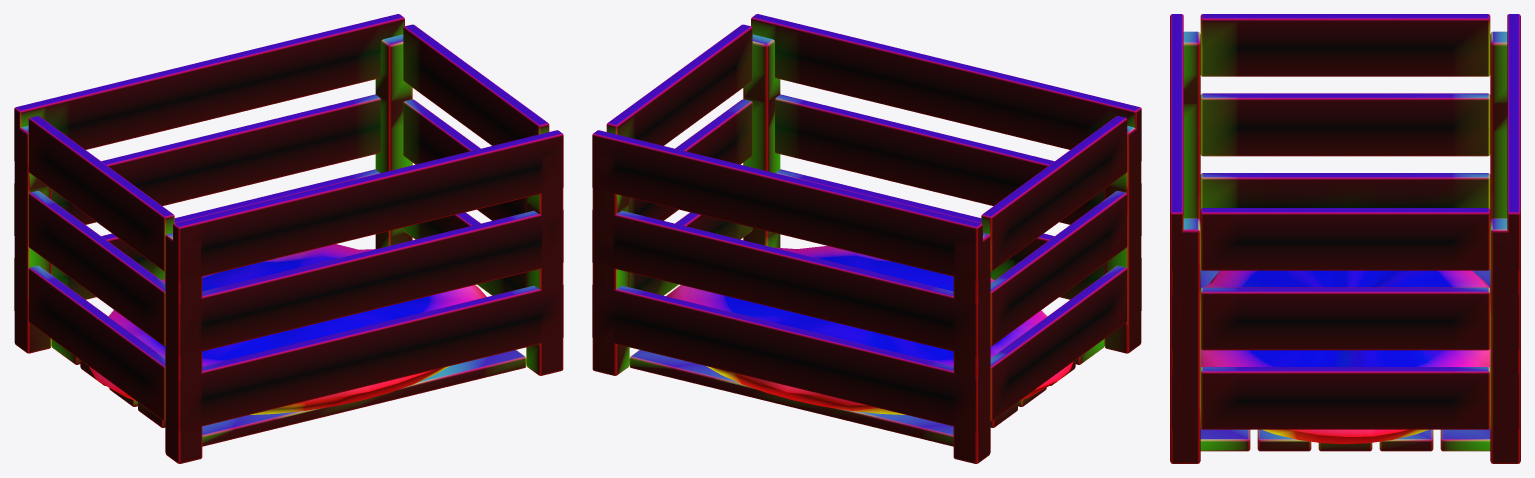
File: prop_crate_body.fbx
The picture shows the model from 3 angles, left to right: view 1: azimuth 30°, elevation 25°; view 2: azimuth 150°, elevation 25°; view 3: azimuth 270°, elevation 25°; orthographic projection. The views are drawn at different scales.
Visible parts, largest first — view 1: prop_crate_body; view 2: prop_crate_body; view 3: prop_crate_body.
Part boxes in pixels (left/top/right/bottom): prop_crate_body: left=14, top=14, right=563, bottom=463; prop_crate_body: left=592, top=14, right=1141, bottom=463; prop_crate_body: left=1170, top=14, right=1520, bottom=463.
Size of the model in its own units: 0.62 by 0.365 by 0.46.
